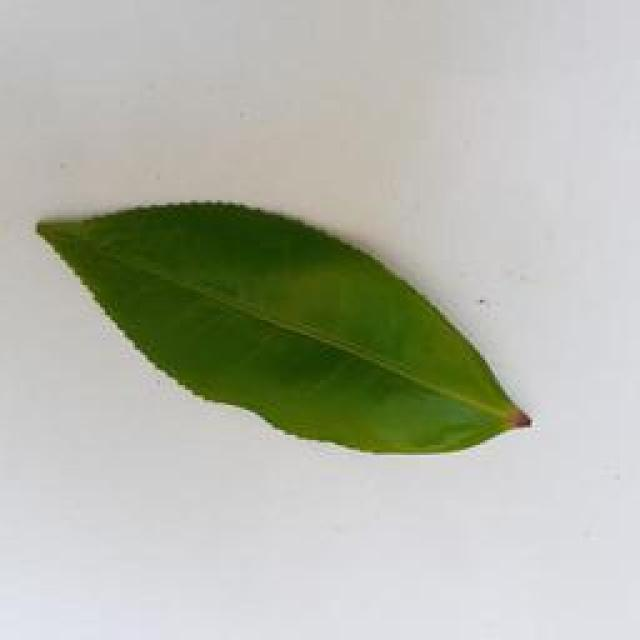Healthy: (31, 198, 542, 462)
